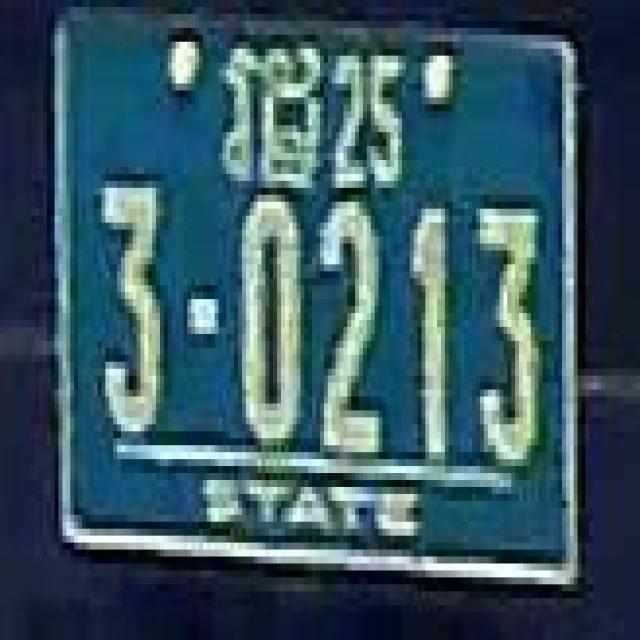State: (223, 42, 323, 194)
